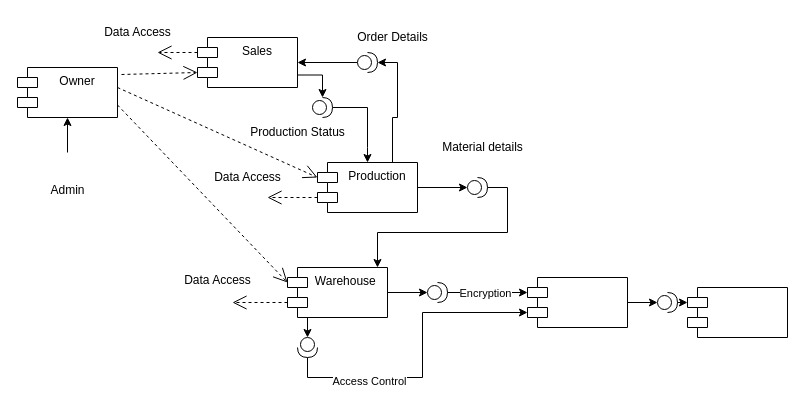
The diagram is 805 pixels wide and 404 high, and some of its shapes have lost their labels. The shapes that lost their labels are listed below. From the top down, each one's centre as x and y in pixels, then its label:
At (577,302): "Persistence".
At (737,312): "StockDB".
